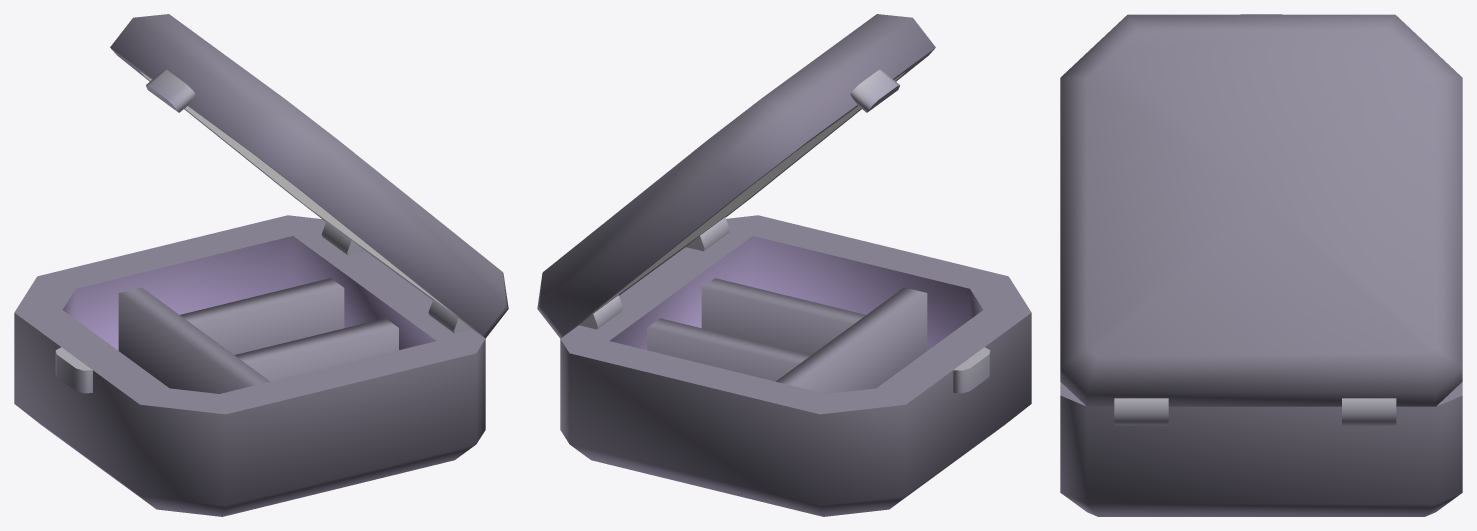
Rendered from makeup-case-trunk.glb.
The picture shows the model from 3 angles, left to right: view 1: azimuth 30°, elevation 25°; view 2: azimuth 150°, elevation 25°; view 3: azimuth 270°, elevation 25°; orthographic projection. The views are drawn at different scales.
Visible parts, largest first — view 1: makeup-case-trunk; view 2: makeup-case-trunk; view 3: makeup-case-trunk.
Boxes of the visible parts, x1,y1,x2,y2 form: makeup-case-trunk: [14, 14, 508, 516]; makeup-case-trunk: [537, 14, 1031, 516]; makeup-case-trunk: [1060, 14, 1462, 516].
Bounding box in the file's own units: 0.3312 × 0.3333 × 0.3.
